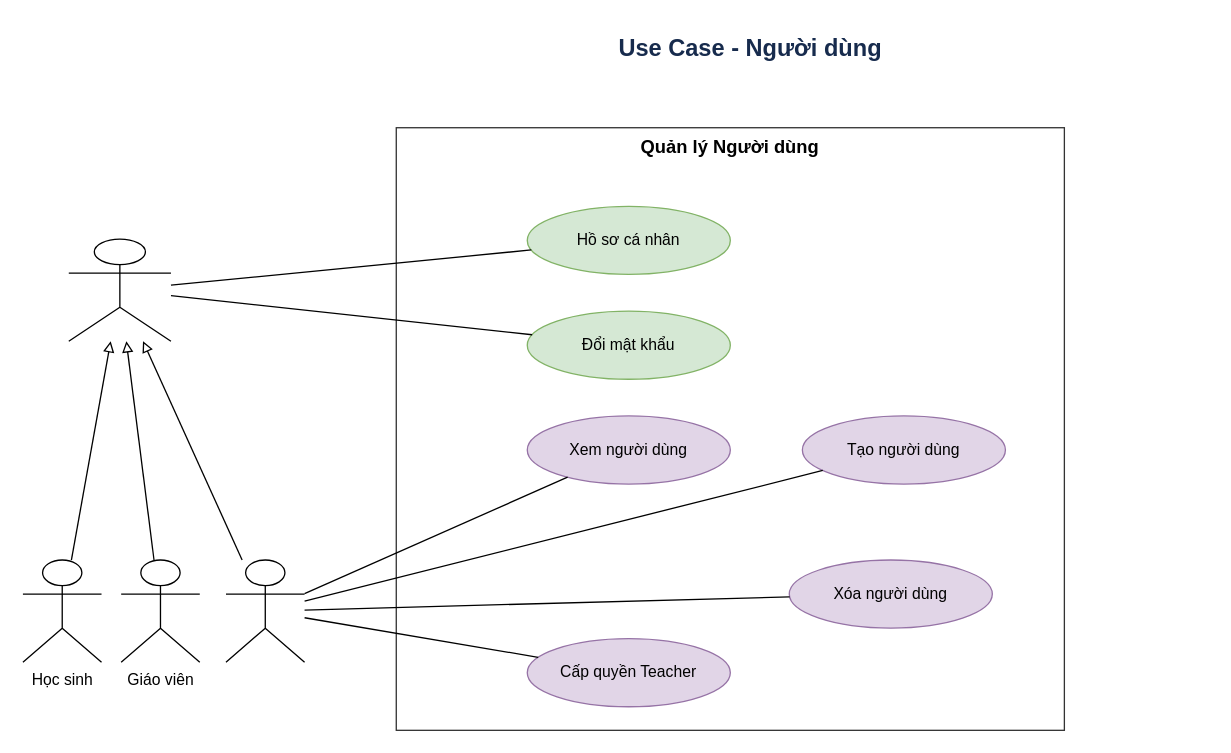
The diagram is 1231 pixels wide and 753 high, and some of its shapes have lost their labels. Each missing label, with the centre of its shape:
Người dùng đăng nhập: point 119,289
Quản trị viên: point 265,610
